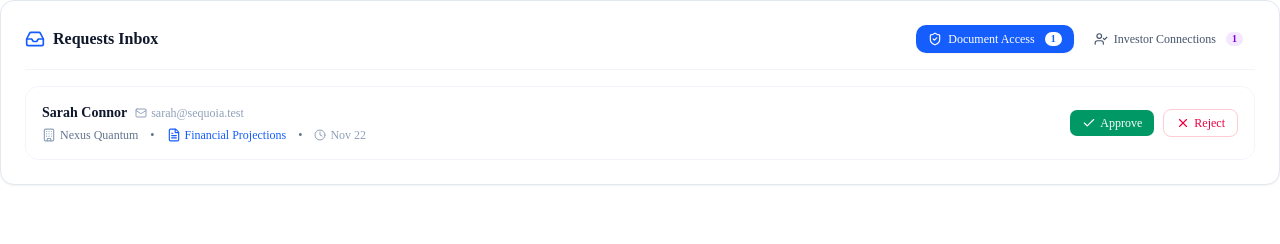
Founder Module Component Tests › 4. RequestsInbox Component › renders access requests and handles Approve action
Later steps or results of the test are not shown.
Expected: the text "Sarah Connor" is shown, [42, 103, 127, 123]
Expected: the text "Financial Projections" is shown, [166, 127, 286, 143]
// Click Approve
Click the button with test id "approve-access-req-1". click: (1112, 123)
box: [1069, 109, 1155, 137]
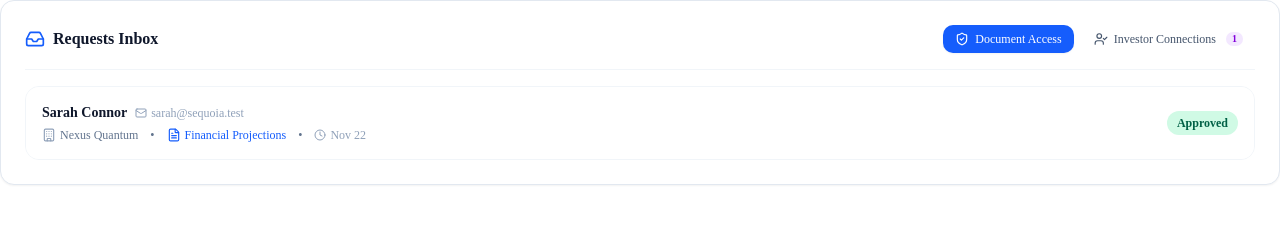
// Switch to Connection Requests tab
Click the button "Investor Connections 1". click: (1168, 39)
box: [1082, 25, 1255, 53]
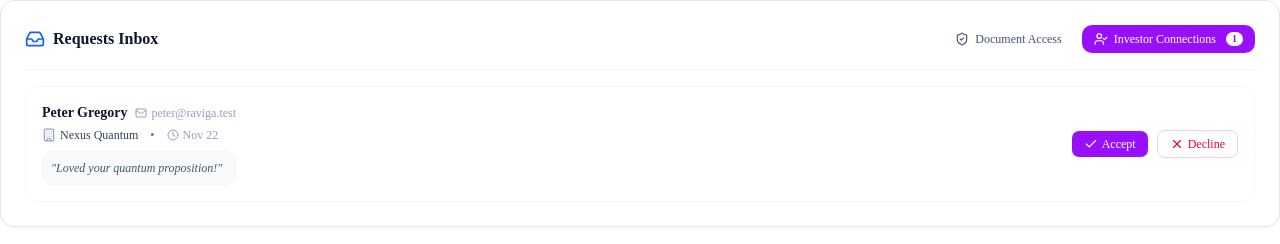
Now the text "Peter Gregory" is shown, box [42, 103, 127, 123]
Now the text "\"Loved your quantum proposition!\"" is shown, box [42, 151, 236, 185]
